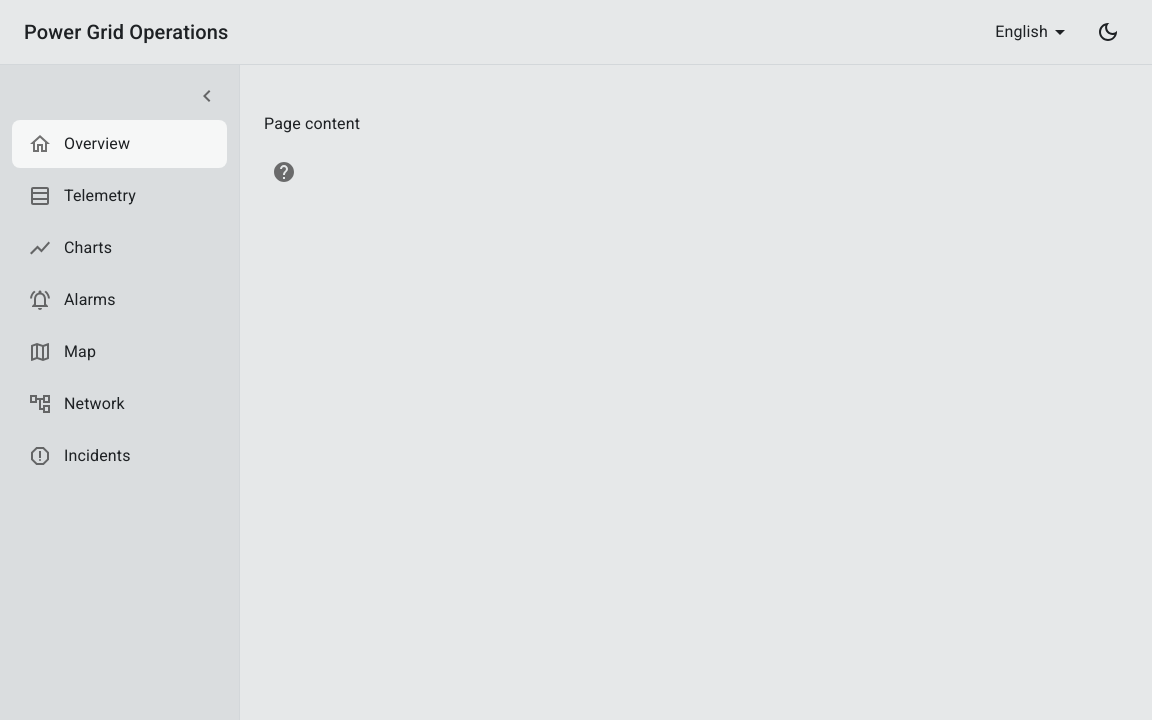
Test: Layout › collapses the sidebar to an icon rail and remembers it in a cookie
Step 1. Click the button named "Collapse menu" → (207, 96), box [187,76,227,116]
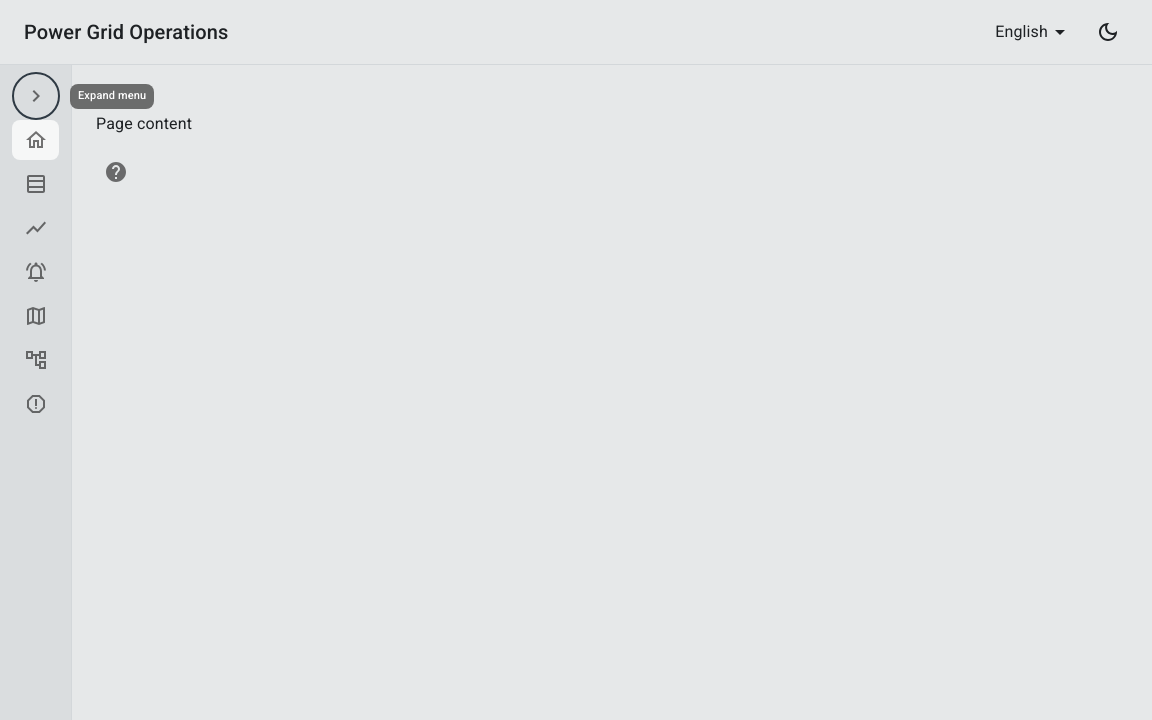
Now the link named "Overview" no longer shows "Overview", box [12,120,59,160]
Step 2. Click the button named "Expand menu" → (36, 96), box [16,76,56,116]
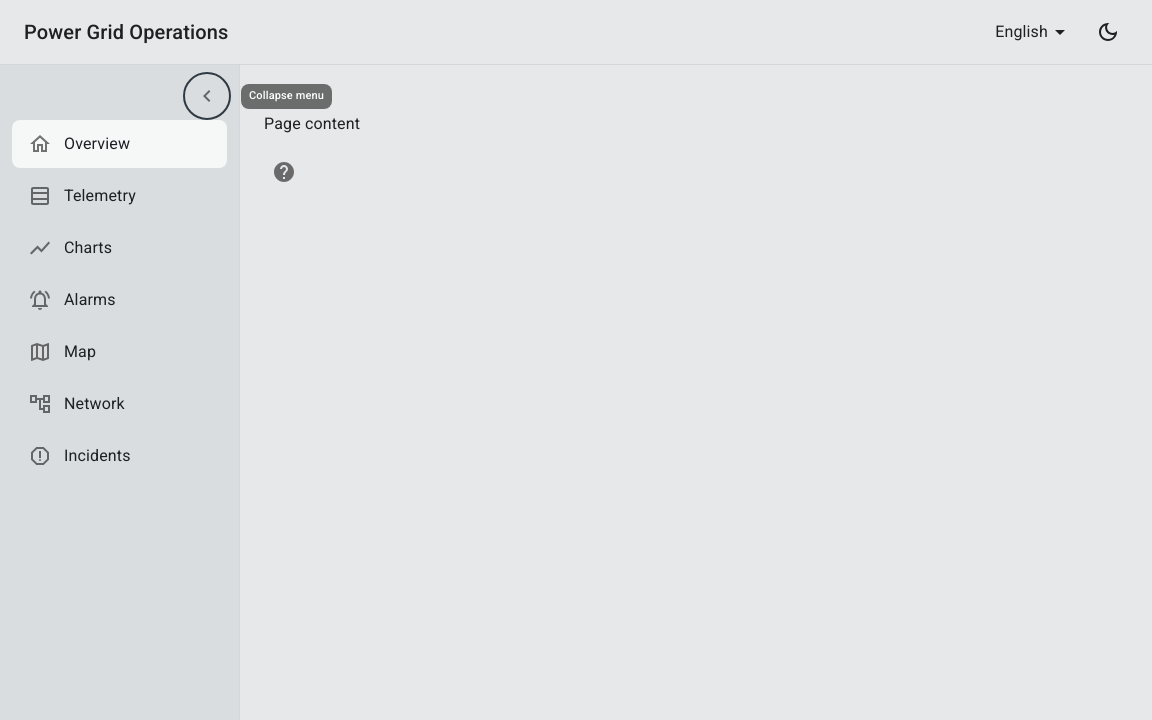
Now the link "Overview" is shown, box [12,120,227,168]
